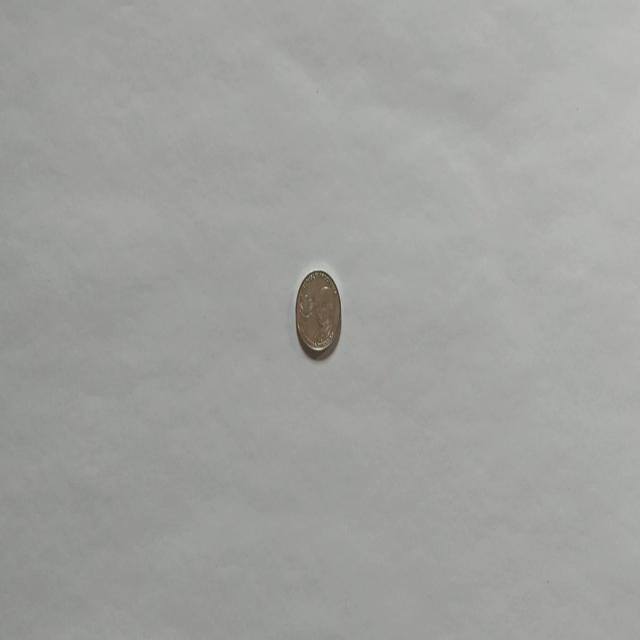lima ratus rupiah: (294, 268, 342, 358)
